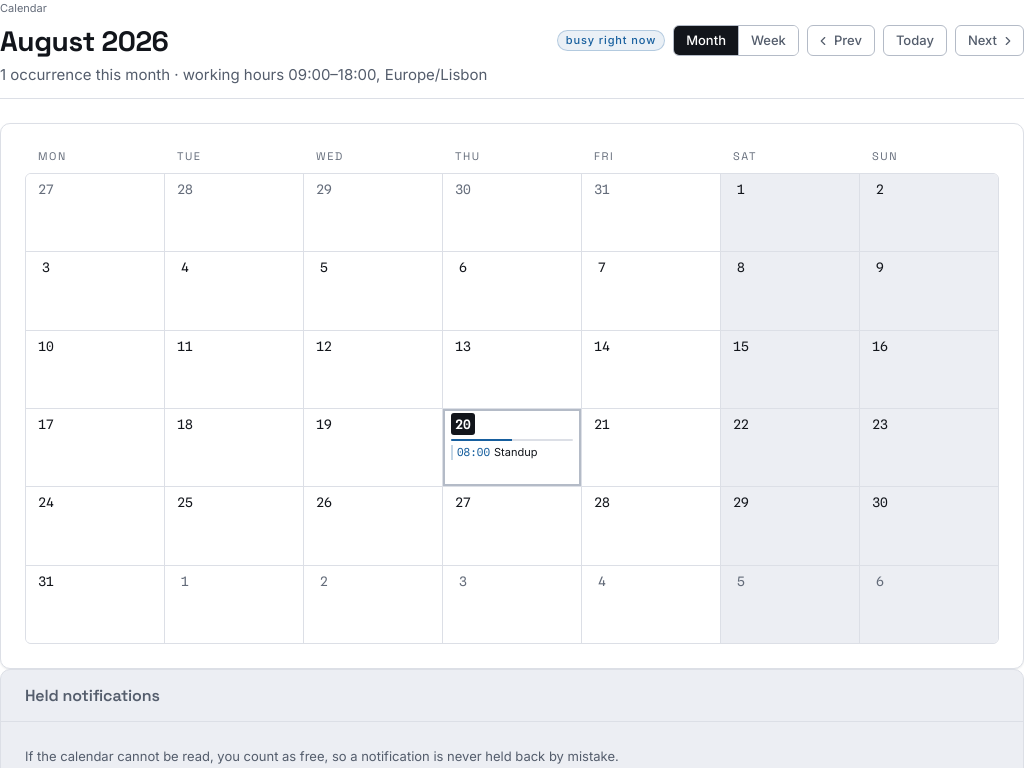
it: the page › opens the day's sheet when a day is clicked, and closes it again
The image size is (1024, 768).
Step 1. Click the button "20 08:00 Standup" → (512, 448), box [443, 409, 581, 486]
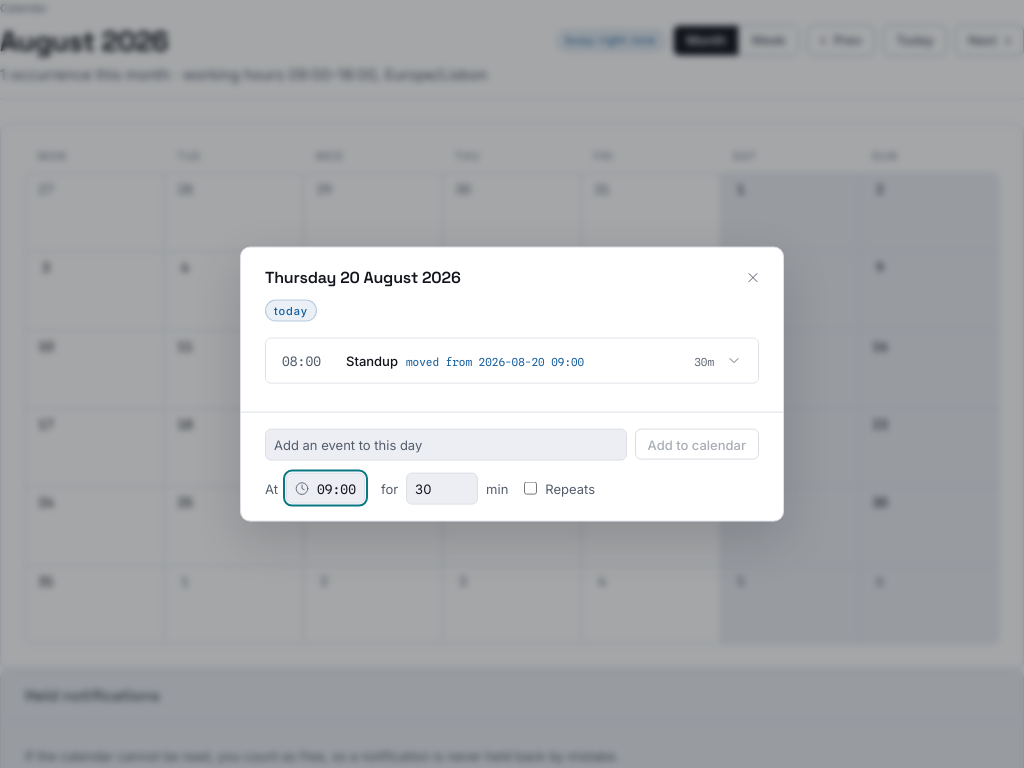
Expected: the dialog shows "20", [265, 267, 461, 288]
Step 2. Click the button "08:00 Standup moved from 2026-08-20 09:00 30m" → (512, 360), box [266, 338, 758, 382]
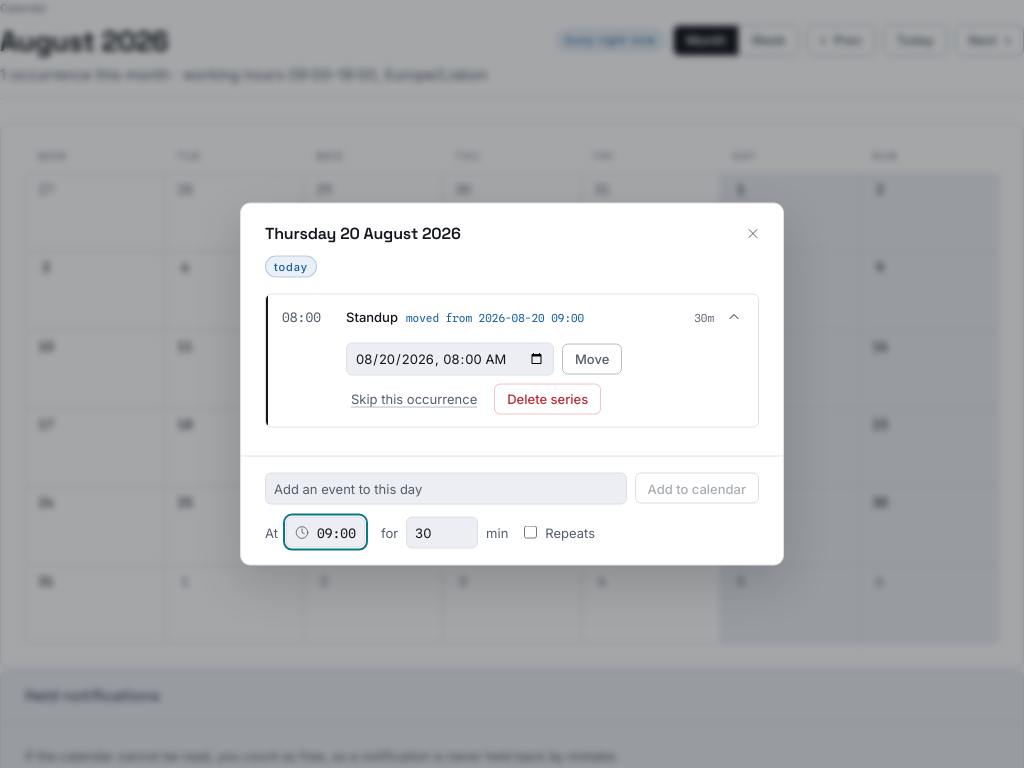
Expected: the button "Add to calendar" is shown, [634, 473, 759, 504]
Expected: the button "Skip this occurrence" is shown, [346, 385, 482, 413]
Step 3. Click the button named "Close" → (753, 234), box [739, 220, 767, 248]
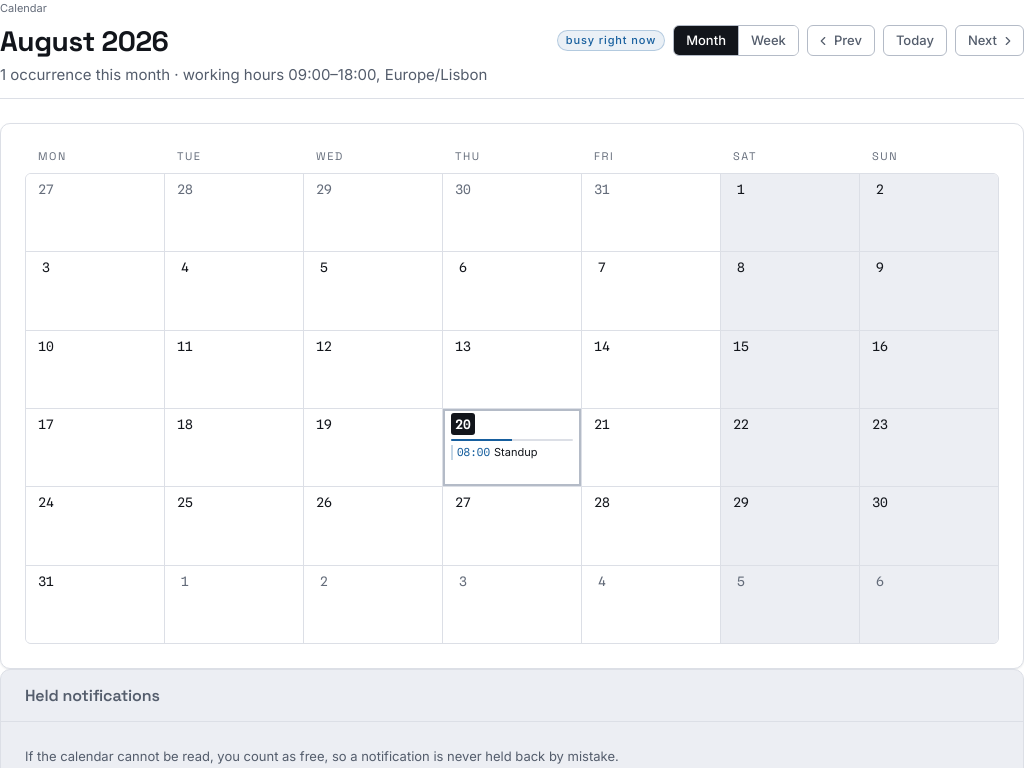
Expected: the dialog is gone
